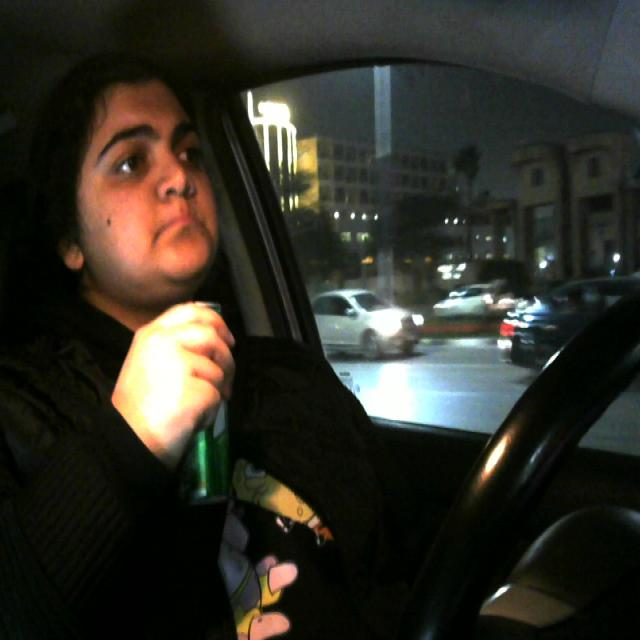drinking: (172, 290, 235, 522)
